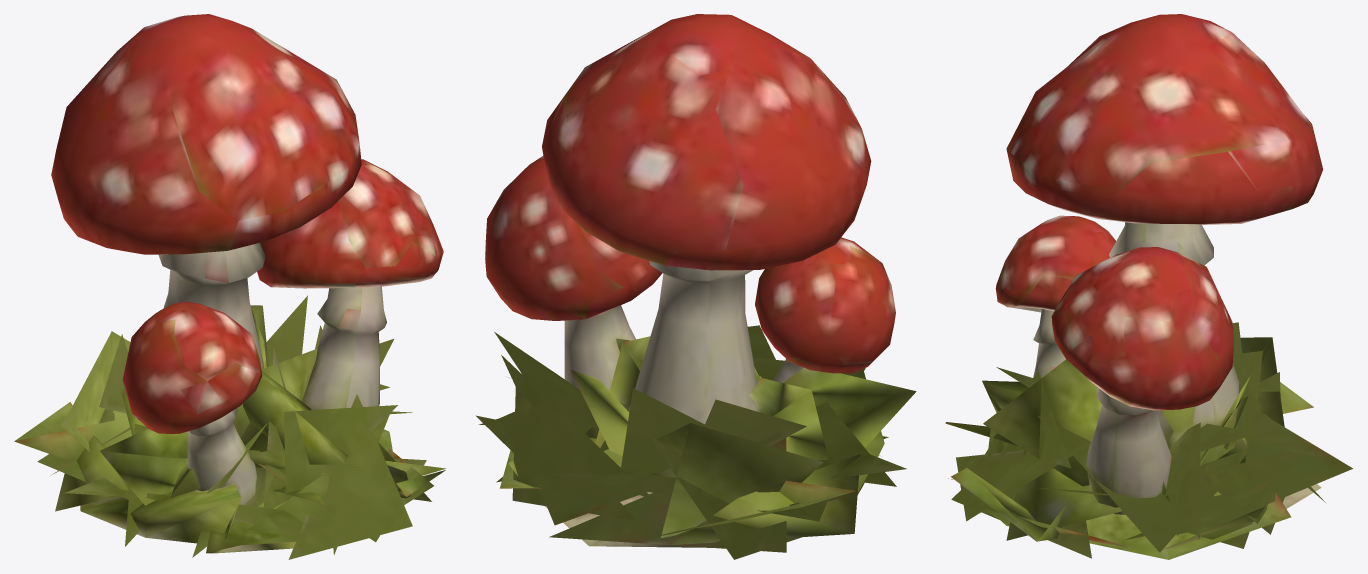
The model's file is mushrooms.glb.
The picture shows the model from 3 angles, left to right: view 1: azimuth 30°, elevation 25°; view 2: azimuth 150°, elevation 25°; view 3: azimuth 270°, elevation 25°; orthographic projection. The views are drawn at different scales.
Bounding box in the file's own units: 0.8325 × 0.9536 × 0.7842.
1 material, 1 textured.
